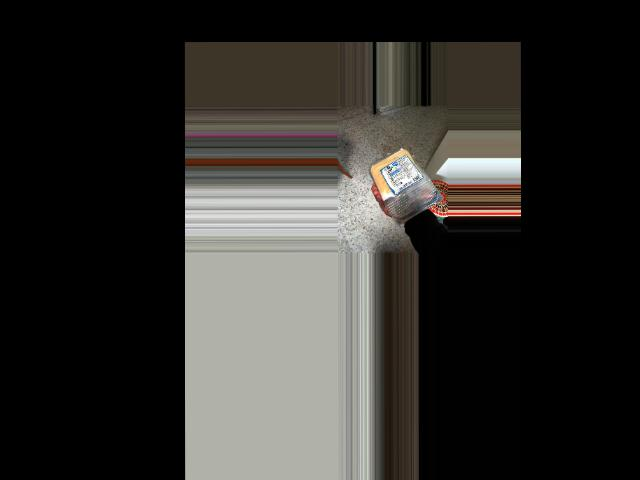cheese: (374, 145, 436, 217)
